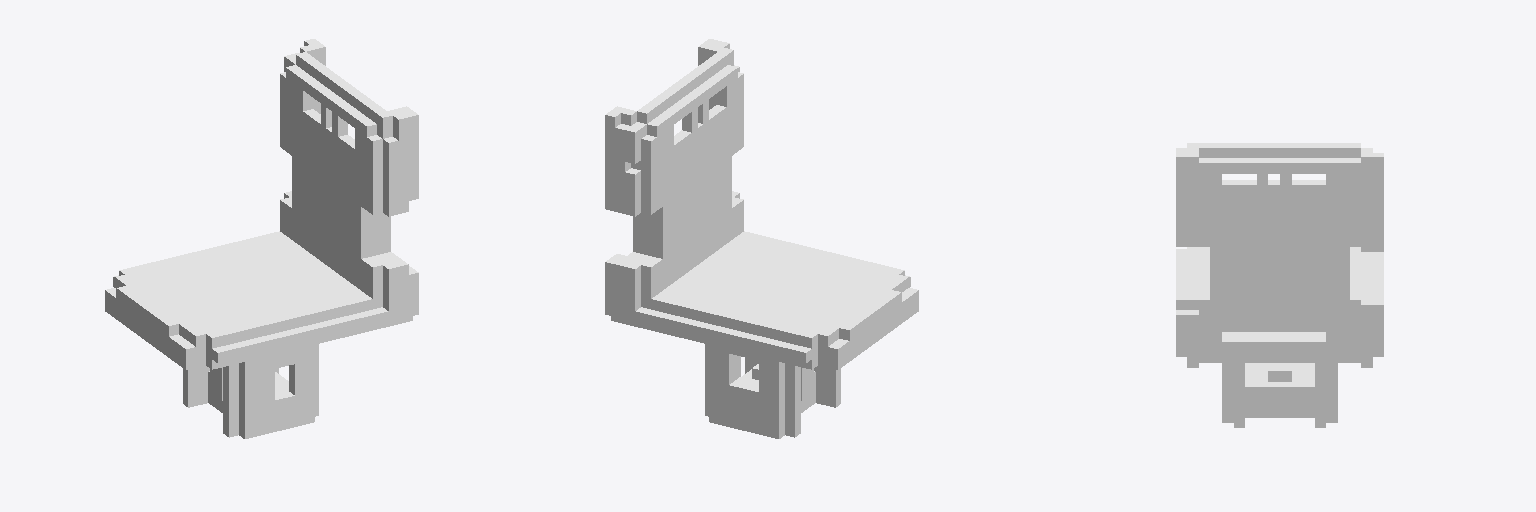
The model's file is kreslo.obj.
3 renders of one model, left to right at view 1: azimuth 30°, elevation 25°; view 2: azimuth 150°, elevation 25°; view 3: azimuth 270°, elevation 25°, orthographic.
Visible parts, largest first — view 1: object 1; view 2: object 1; view 3: object 1.
Part boxes in pixels (left/top/right/bottom): object 1: left=105, top=39, right=418, bottom=438; object 1: left=605, top=39, right=918, bottom=438; object 1: left=1176, top=143, right=1383, bottom=427.
Bounding box in the file's own units: 2.2 × 2.9 × 1.8.